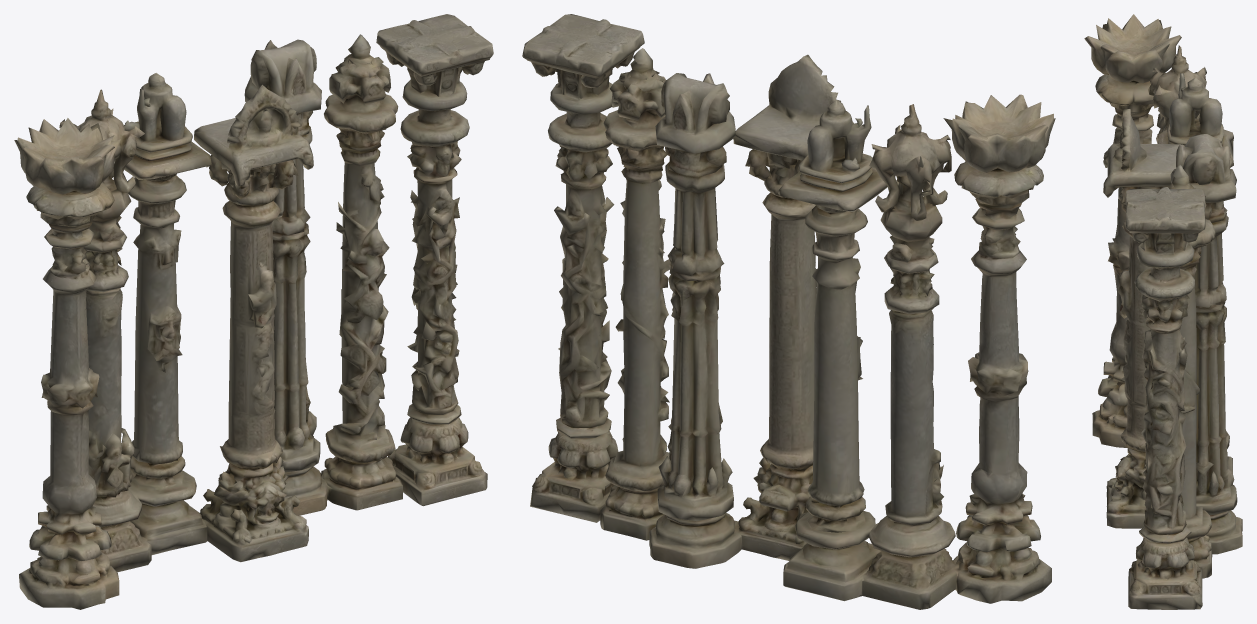
File: Pillars.glb
The picture shows the model from 3 angles, left to right: view 1: azimuth 30°, elevation 25°; view 2: azimuth 150°, elevation 25°; view 3: azimuth 270°, elevation 25°; orthographic projection. The views are drawn at different scales.
Parts seen in each view (by area): view 1: tripo_node_feacbf2d-e2b7-446b-ad09-59065f0f3dcf; view 2: tripo_node_feacbf2d-e2b7-446b-ad09-59065f0f3dcf; view 3: tripo_node_feacbf2d-e2b7-446b-ad09-59065f0f3dcf.
Part boxes in pixels (left/top/right/bottom): tripo_node_feacbf2d-e2b7-446b-ad09-59065f0f3dcf: left=14, top=14, right=493, bottom=609; tripo_node_feacbf2d-e2b7-446b-ad09-59065f0f3dcf: left=522, top=14, right=1055, bottom=609; tripo_node_feacbf2d-e2b7-446b-ad09-59065f0f3dcf: left=1084, top=14, right=1242, bottom=609.
Size of the model in its own units: 0.9803 by 0.933 by 0.3264.
1 material, 1 textured.
